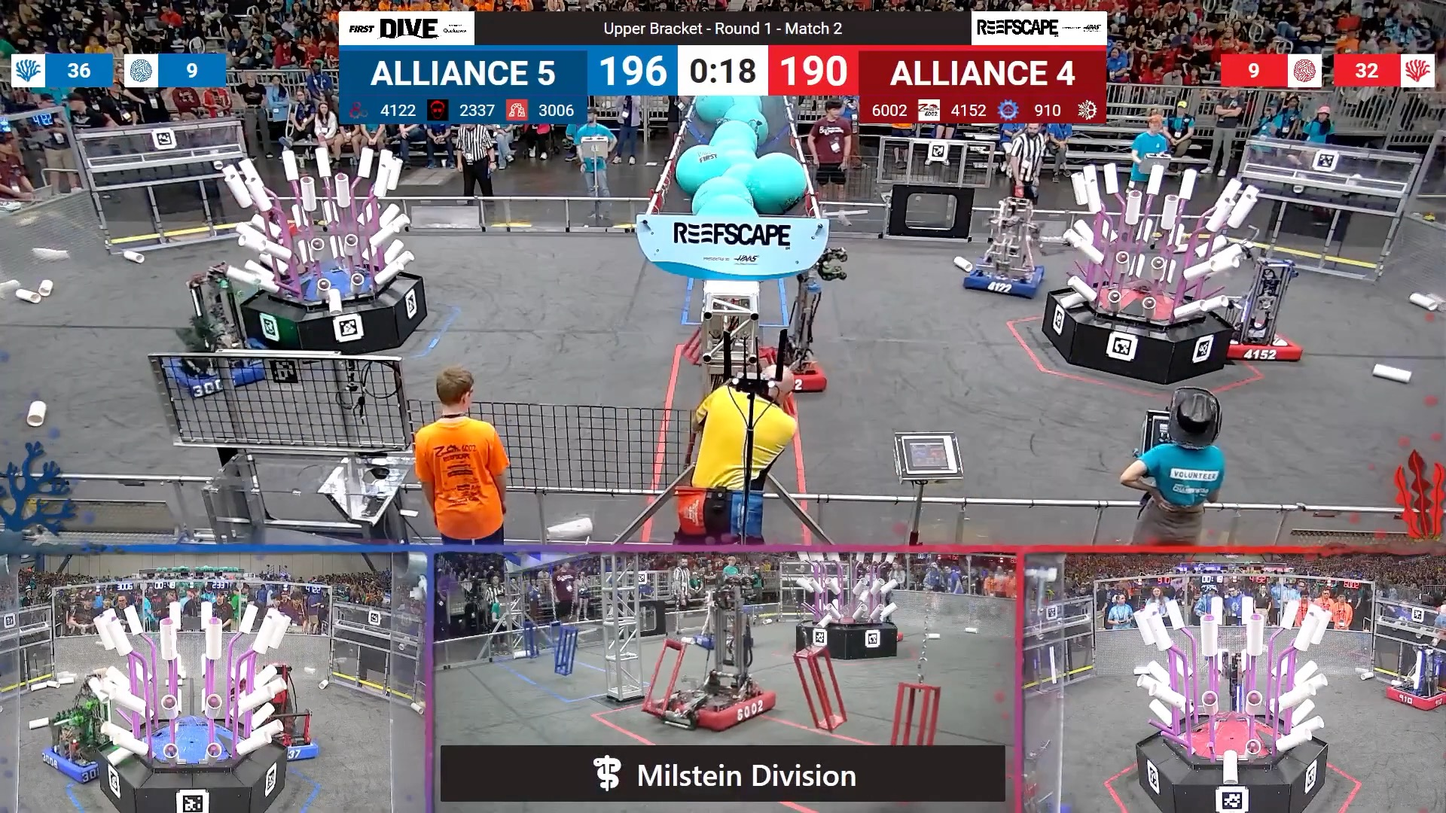bumpers: (159, 343, 278, 397), (652, 684, 778, 731), (36, 735, 138, 784), (1219, 318, 1308, 370), (956, 258, 1052, 300), (762, 350, 836, 398), (267, 716, 324, 762), (1377, 681, 1445, 713)
